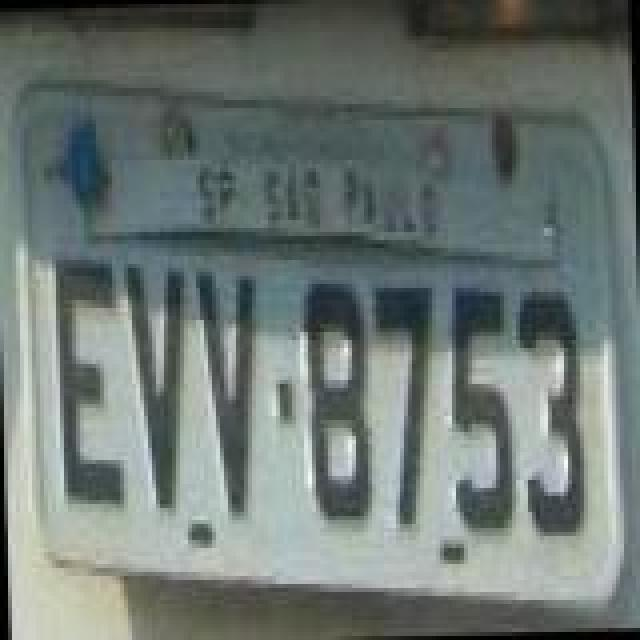3: (514, 288, 590, 544)
5: (444, 280, 516, 536)
7: (372, 284, 444, 532)
8: (298, 274, 374, 526)
E: (52, 256, 124, 512)
V: (126, 258, 194, 510), (198, 270, 266, 522)
